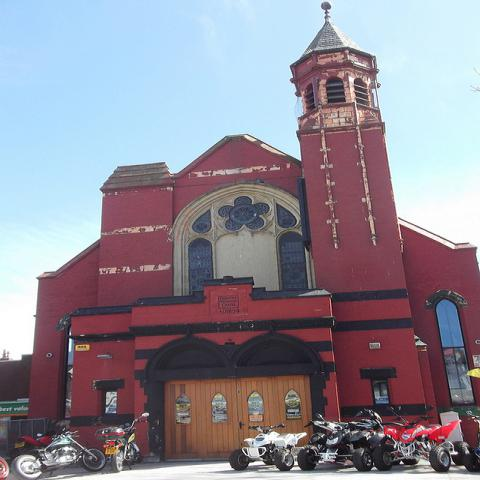motorcycle: (366, 404, 462, 474), (297, 410, 383, 473), (8, 430, 108, 479), (229, 422, 309, 470), (99, 412, 152, 479), (4, 428, 68, 460), (451, 410, 480, 471)
